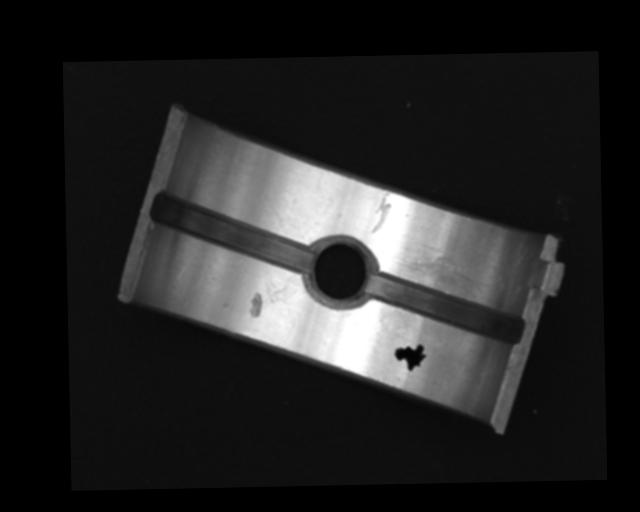blot: (393, 343, 426, 372)
bruise: (248, 291, 263, 318)
gap: (151, 191, 314, 275), (368, 273, 523, 347)
hole: (310, 240, 375, 307)
nick: (369, 191, 392, 234)
scratch: (397, 251, 487, 299)
